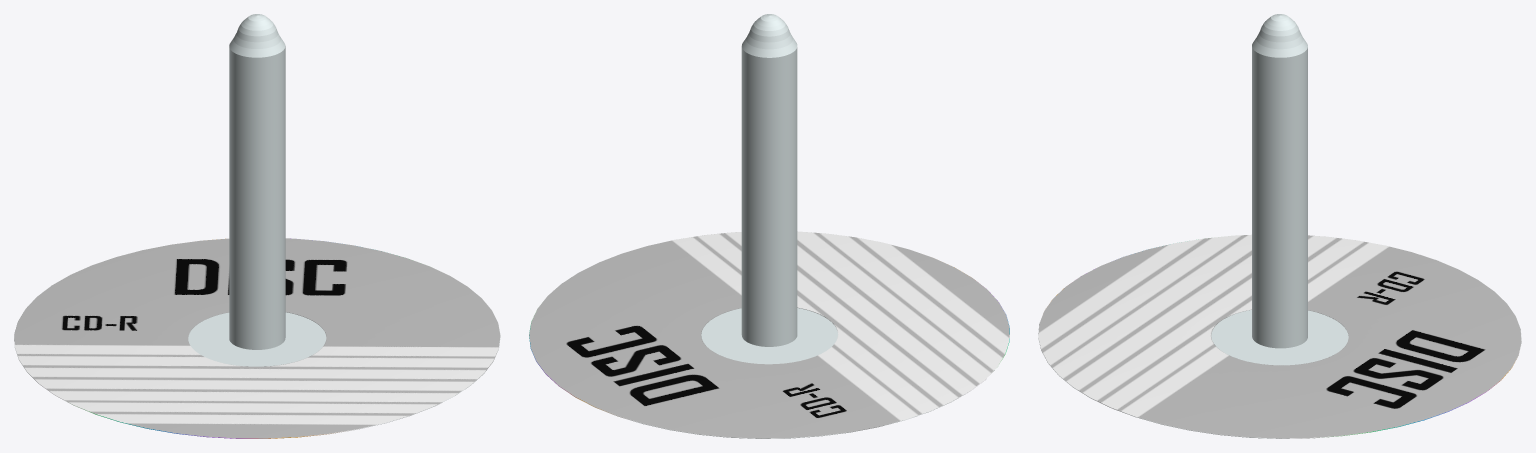
File: CD Holder.fbx
The picture shows the model from 3 angles, left to right: view 1: azimuth 30°, elevation 25°; view 2: azimuth 150°, elevation 25°; view 3: azimuth 270°, elevation 25°; orthographic projection.
Visible parts, largest first — view 1: Cylinder001; view 2: Cylinder001; view 3: Cylinder001.
Part boxes in pixels (left/top/right/bottom): Cylinder001: left=14, top=14, right=500, bottom=438; Cylinder001: left=529, top=14, right=1009, bottom=438; Cylinder001: left=1038, top=14, right=1521, bottom=438.
Size of the model in its own units: 51.94 by 38.38 by 51.96.
